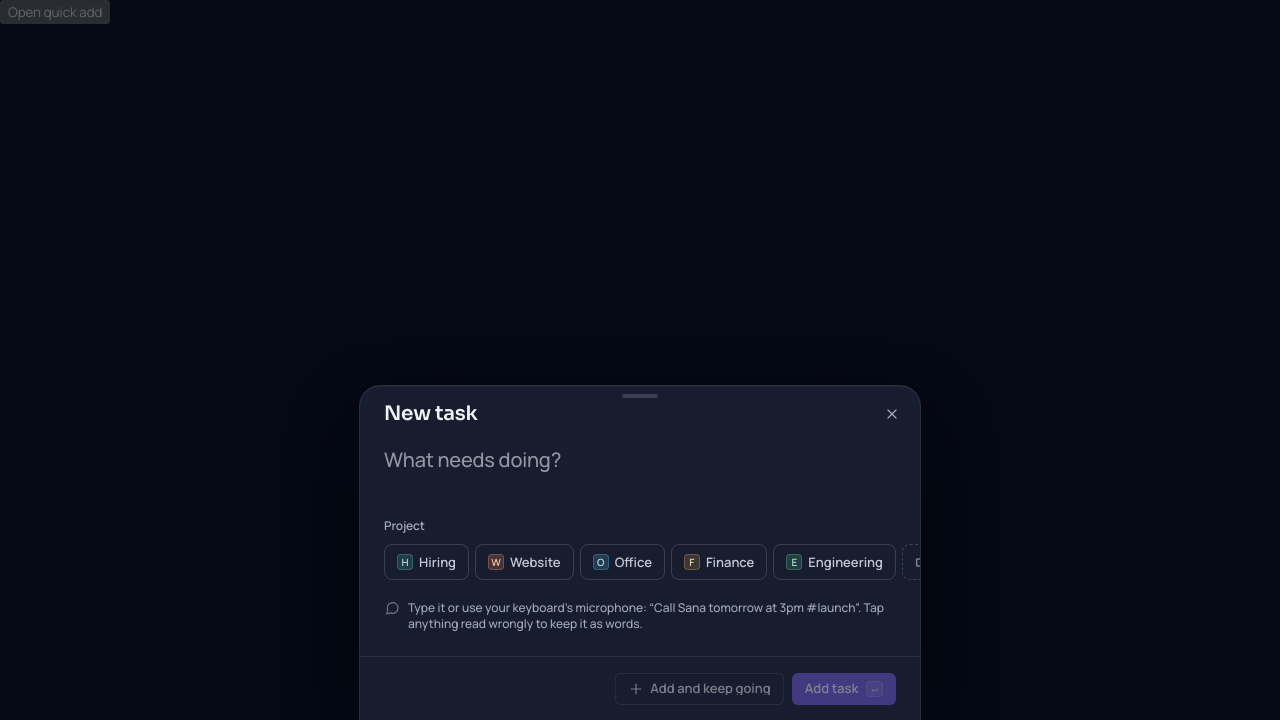
Test case: QuickAddSheet › highlights what it read as you type, and Enter adds it and closes
This screenshot has width=1280, height=720.
Type "Call @sana tomorrow 3pm #launch !high" into the text box named "Task, in your own words" at (640, 474), box [384,446,896,502]
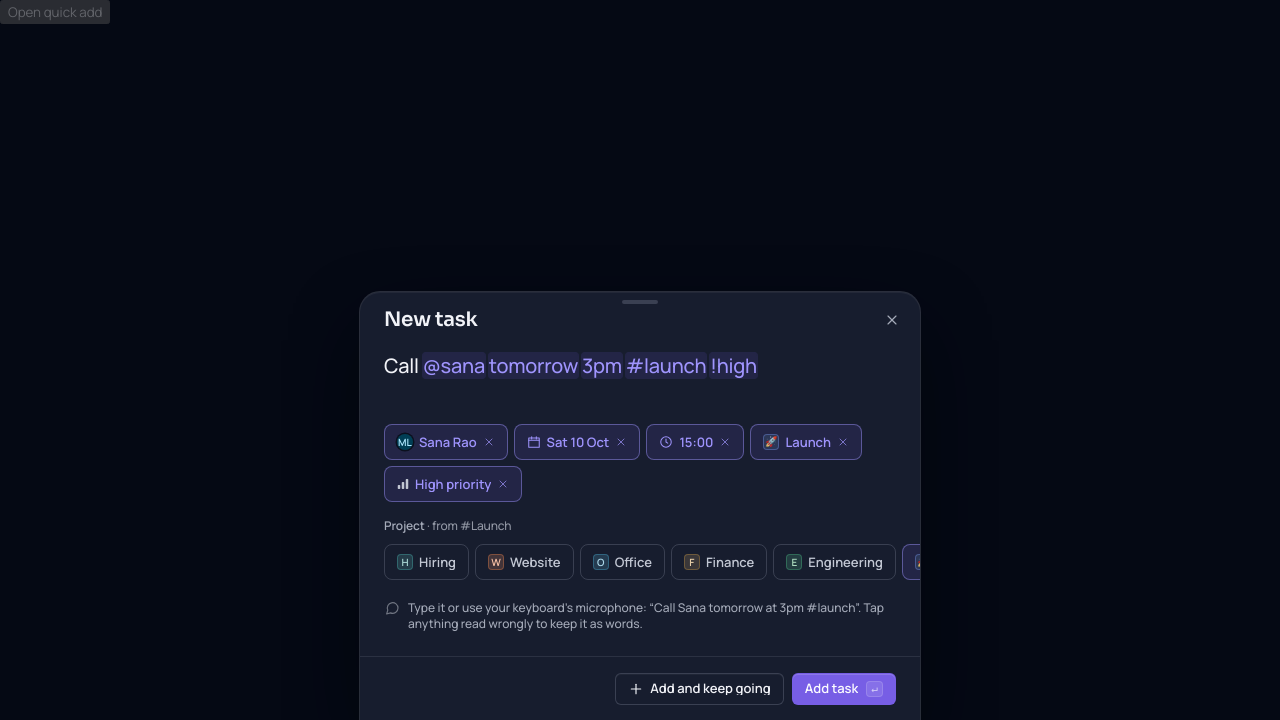
Press Enter in the text box named "Task, in your own words", box [384,352,896,408]
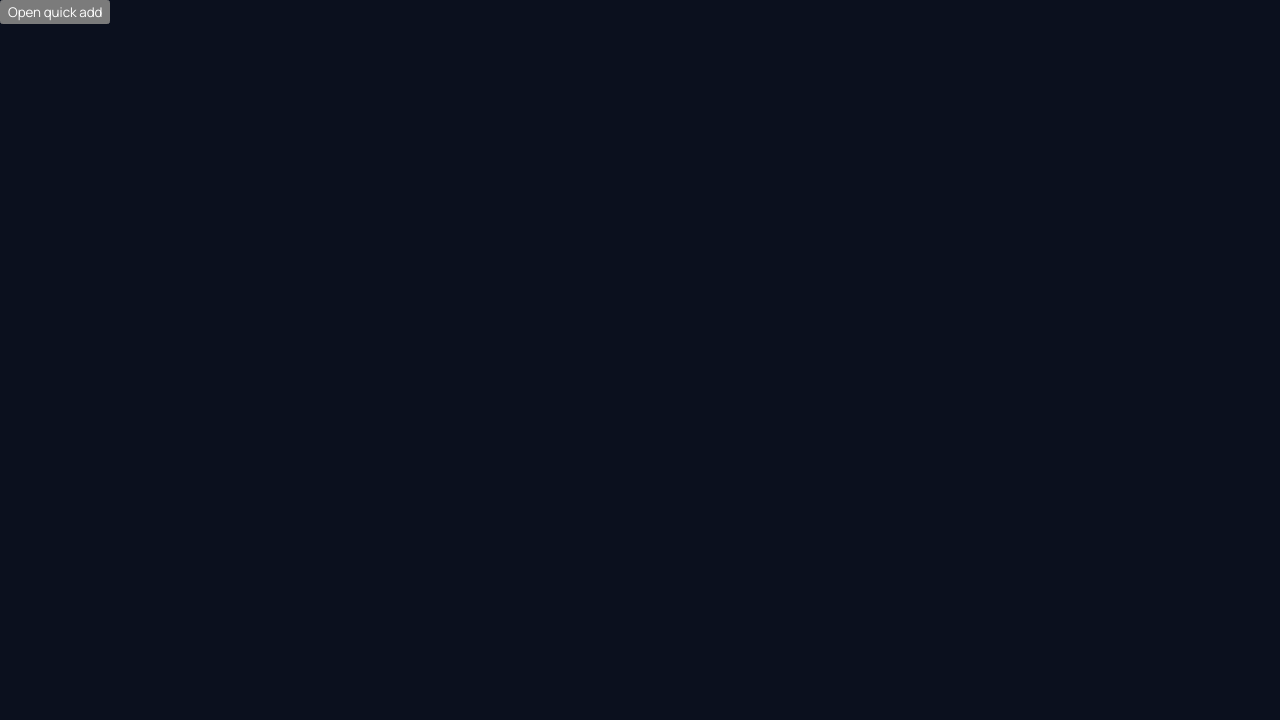
Expected: the dialog is gone
